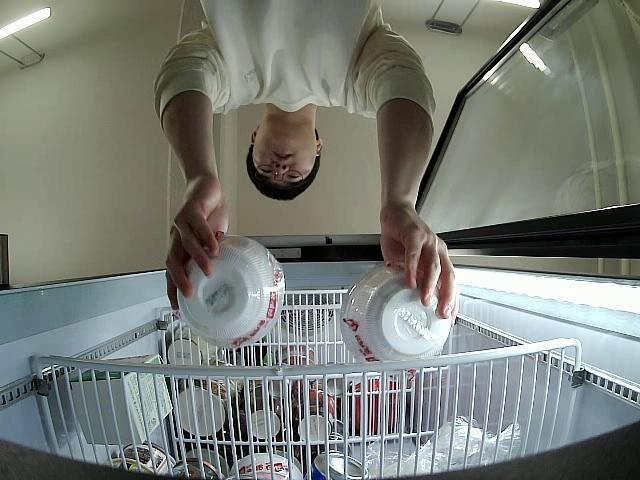09_yukGaeJang: (178, 236, 286, 350), (342, 266, 451, 360)
